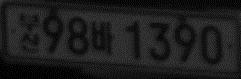0: (200, 24, 224, 65)
1: (123, 21, 147, 59)
3: (149, 21, 172, 62)
8: (66, 16, 90, 55)
9: (174, 22, 198, 63), (41, 14, 65, 53)
바: (91, 21, 114, 56)
부산_V: (19, 11, 41, 55)
